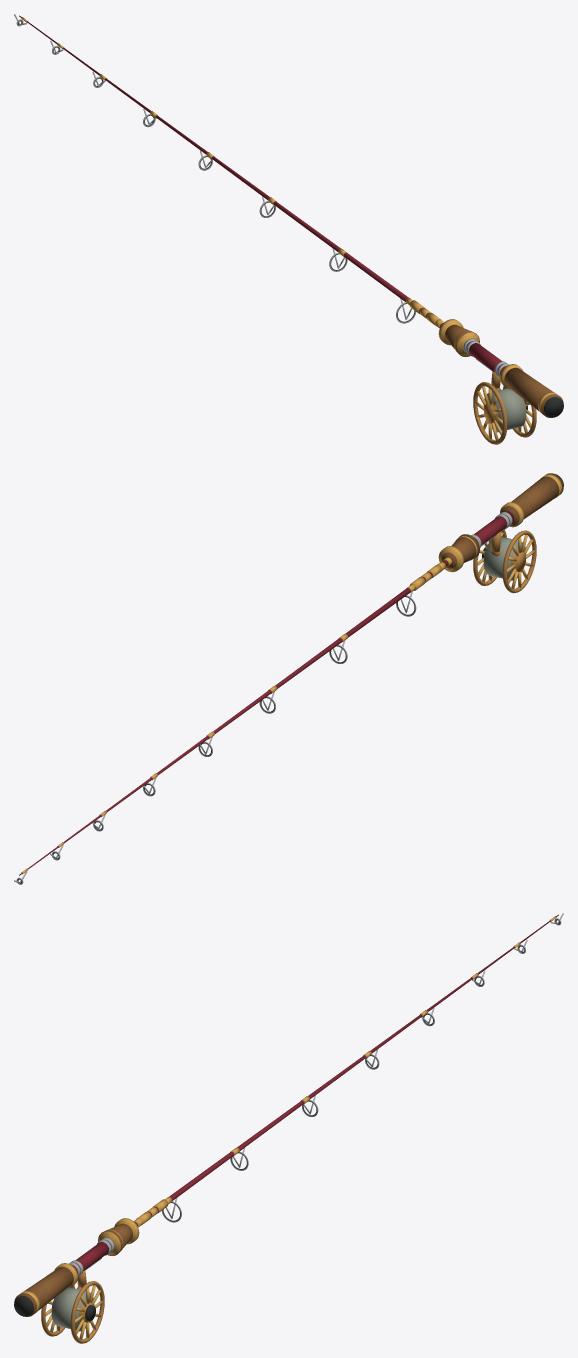
The model's file is heron_fly.glb.
3 renders of one model, top to bottom at view 1: azimuth 30°, elevation 25°; view 2: azimuth 150°, elevation 25°; view 3: azimuth 330°, elevation 25°, orthographic.
Visible parts, largest first — view 1: Tapered carbon blank.006; view 2: Tapered carbon blank.006; view 3: Tapered carbon blank.006.
Boxes of the visible parts, left/top/right/bottom form: Tapered carbon blank.006: left=14, top=14, right=563, bottom=444; Tapered carbon blank.006: left=14, top=473, right=563, bottom=884; Tapered carbon blank.006: left=14, top=913, right=563, bottom=1343.
Size of the model in its own units: 0.073 by 0.156 by 1.91.
8 materials, 1 textured.
